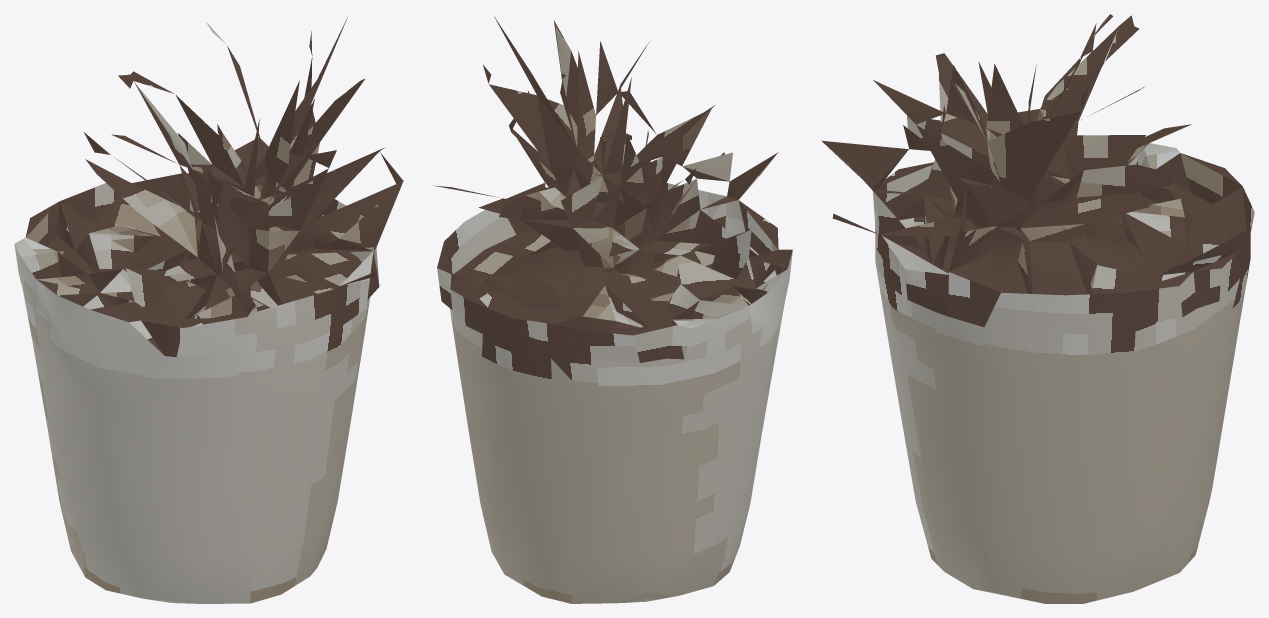
The model's file is potted_plant_04.glb.
The picture shows the model from 3 angles, left to right: view 1: azimuth 30°, elevation 25°; view 2: azimuth 150°, elevation 25°; view 3: azimuth 270°, elevation 25°; orthographic projection. The views are drawn at different scales.
Visible parts, largest first — view 1: mesh; view 2: mesh; view 3: mesh.
Part boxes in pixels (left/top/right/bottom): mesh: left=14, top=17, right=403, bottom=603; mesh: left=433, top=16, right=792, bottom=603; mesh: left=821, top=14, right=1254, bottom=603.
Bounding box in the file's own units: 0.1672 × 0.2676 × 0.1881.
Materials: 1 (1 with a texture image).
